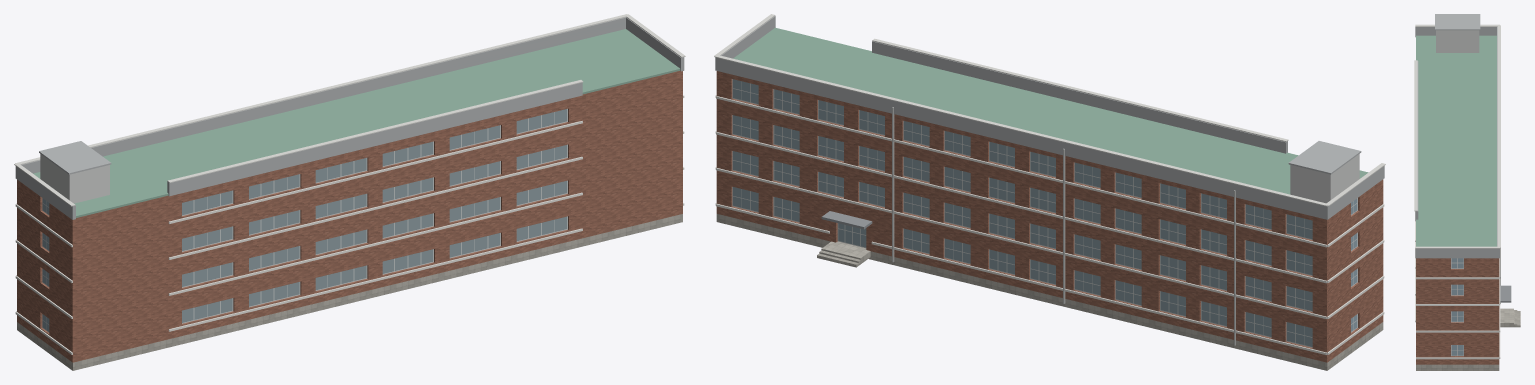
The picture shows the model from 3 angles, left to right: view 1: azimuth 30°, elevation 25°; view 2: azimuth 150°, elevation 25°; view 3: azimuth 270°, elevation 25°; orthographic projection. The views are drawn at different scales.
Visible parts, largest first — view 1: north-wing__brick, north-wing__greenroof, north-wing__sideglass, north-wing__greypanel, north-wing__band, north-wing__stone, north-wing__cap, north-wing__frame, north-wing__roofbox; view 2: north-wing__brick, north-wing__glass, north-wing__greenroof, north-wing__greypanel, north-wing__band, north-wing__frame, north-wing__stone, north-wing__cap, north-wing__roofbox, north-wing__gutter, north-wing__stair-north; view 3: north-wing__greenroof, north-wing__brick, north-wing__greypanel, north-wing__cap, north-wing__band, north-wing__roofbox, north-wing__stone, north-wing__stairglass, north-wing__frame, north-wing__threshold-north, north-wing__canopy, north-wing__stair-north.
Part boxes in pixels (x1,y1,x2,y2): north-wing__brick: [17, 70, 682, 362]; north-wing__greenroof: [33, 29, 680, 217]; north-wing__sideglass: [182, 109, 567, 322]; north-wing__greypanel: [15, 17, 684, 219]; north-wing__band: [15, 95, 684, 354]; north-wing__stone: [17, 214, 682, 370]; north-wing__cap: [14, 14, 685, 206]; north-wing__frame: [42, 109, 567, 332]; north-wing__roofbox: [40, 154, 109, 203]; north-wing__brick: [716, 71, 1383, 362]; north-wing__glass: [733, 79, 1312, 346]; north-wing__greenroof: [733, 27, 1368, 194]; north-wing__greypanel: [715, 16, 1384, 219]; north-wing__band: [715, 95, 1384, 354]; north-wing__frame: [732, 79, 1357, 347]; north-wing__stone: [716, 214, 1383, 370]; north-wing__cap: [714, 14, 1385, 206]; north-wing__roofbox: [1290, 154, 1359, 203]; north-wing__gutter: [892, 107, 1235, 345]; north-wing__stair-north: [817, 247, 862, 267]; north-wing__greenroof: [1416, 35, 1496, 246]; north-wing__brick: [1416, 258, 1499, 364]; north-wing__greypanel: [1415, 14, 1499, 258]; north-wing__cap: [1414, 24, 1500, 248]; north-wing__band: [1415, 211, 1500, 359]; north-wing__roofbox: [1436, 30, 1479, 52]; north-wing__stone: [1416, 364, 1499, 370]; north-wing__stairglass: [1451, 258, 1463, 355]; north-wing__frame: [1451, 258, 1463, 355]; north-wing__threshold-north: [1500, 308, 1510, 327]; north-wing__canopy: [1500, 285, 1511, 302]; north-wing__stair-north: [1510, 308, 1520, 327].
Bounding box in the file's own units: 60.9 × 17.63 × 12.27.
14 materials, 2 textured.
